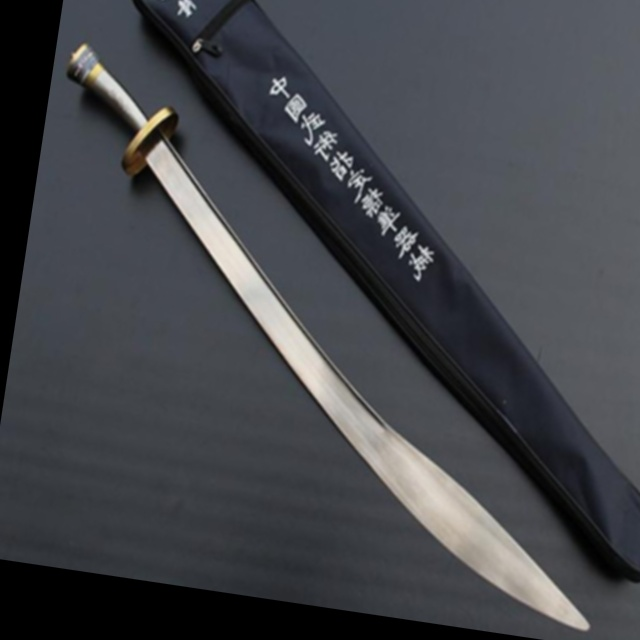Sharp-Object: (14, 98, 640, 640)
